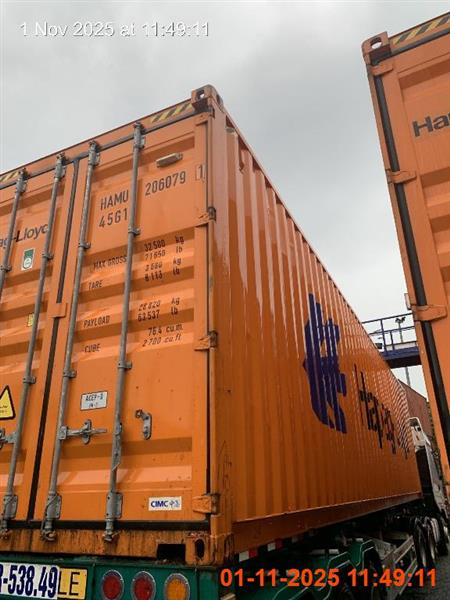crack: (1, 14, 448, 598)
